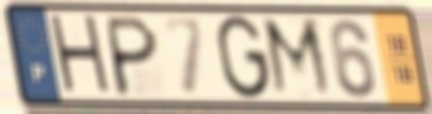6: (327, 16, 378, 101)
7: (161, 15, 206, 99)
G: (214, 12, 273, 103)
H: (45, 11, 116, 100)
M: (258, 14, 338, 102)
P: (105, 13, 161, 100)
